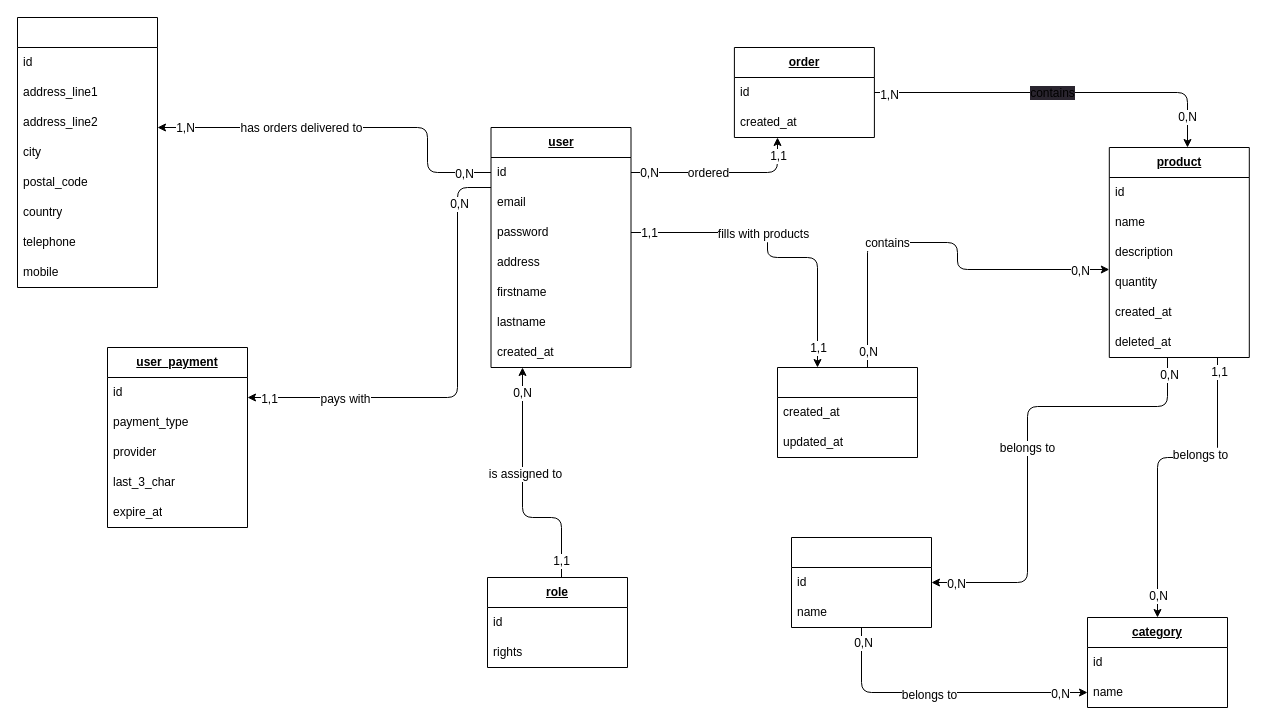
Image size: 1274x725. Some labels were removed from this diagram. The shapes that lost their labels are listed below. From the top down, each one's box as (x1, y1, x2, y2) in pixels, then its label:
(16, 16, 158, 288): user_address
(776, 366, 918, 458): cart
(790, 536, 932, 628): tag
